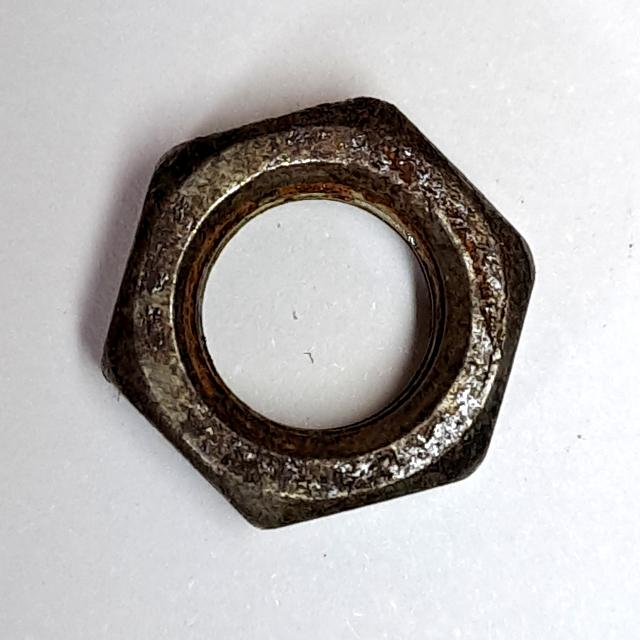Rust: (87, 85, 542, 542)
